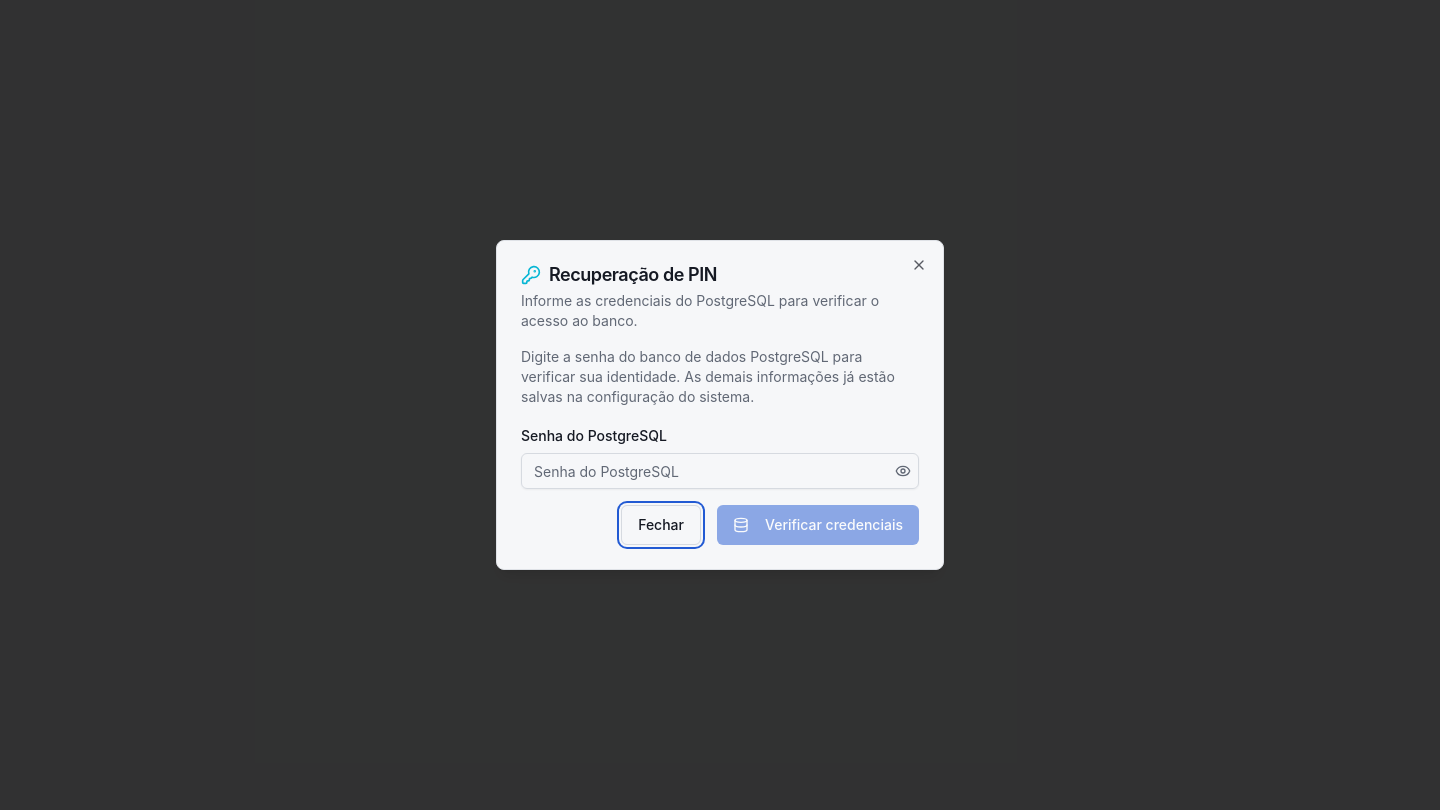
Scenario: PasswordRecoveryDialog › Step 1 — Senha PostgreSQL apenas › exibe erro quando credenciais sao invalidas
Type "wrongpass" into the password field labelled "Senha do PostgreSQL".
click(720, 471); type("wrongpass")  # box [521,453,919,489]
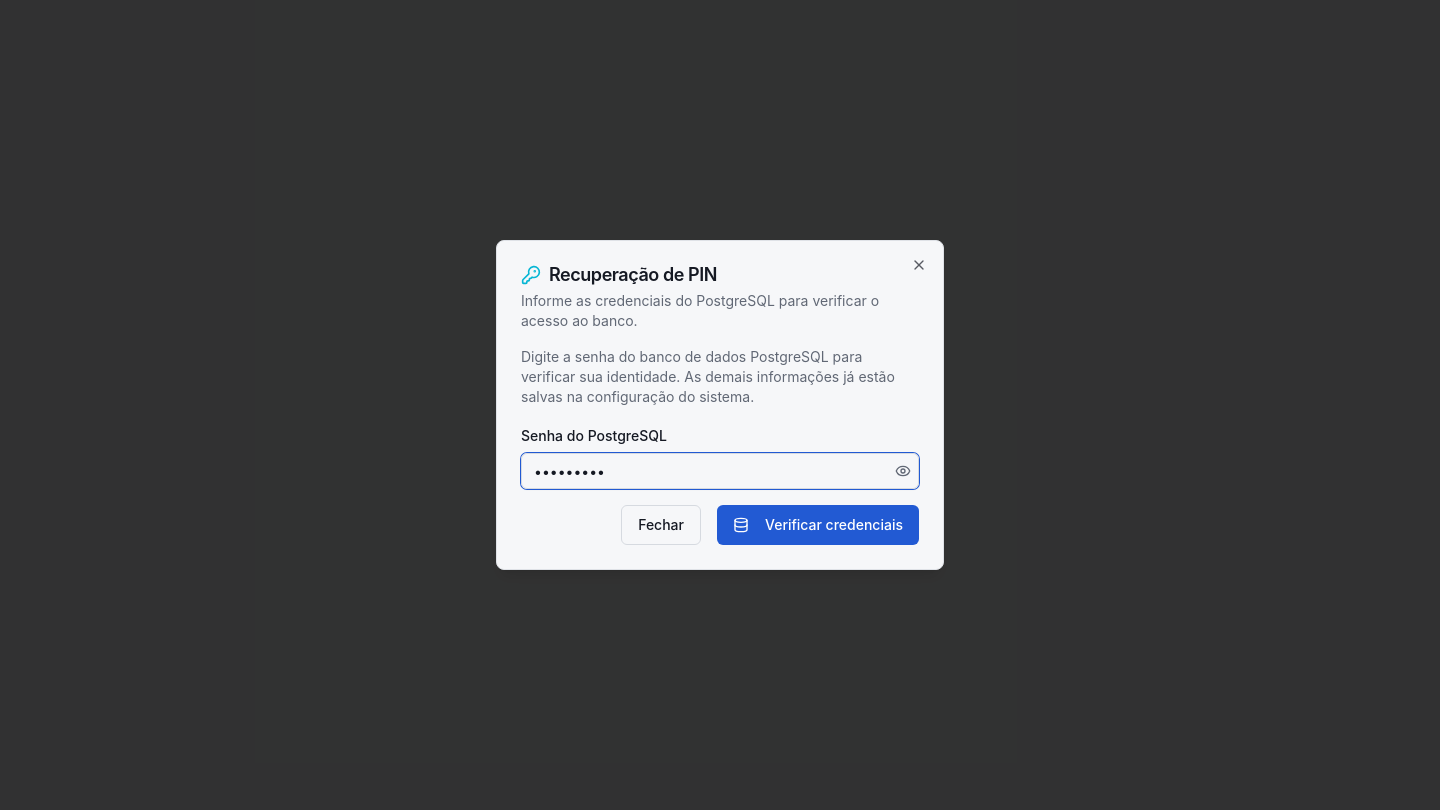
Click the button "Verificar credenciais".
click(818, 525)  # box [717,505,919,545]
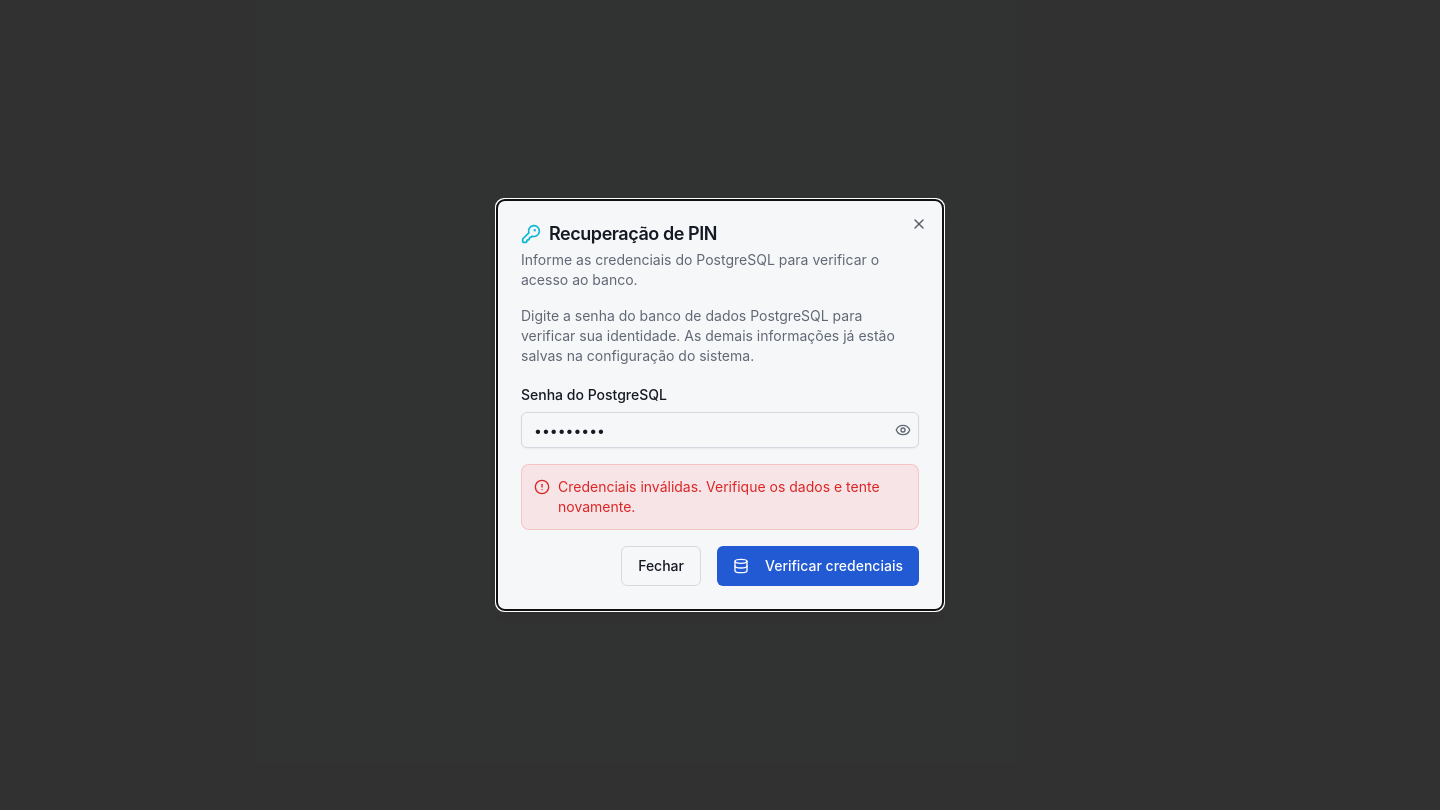
Now the text "Credenciais inválidas. Verifique os dados e tente novamente." is shown, box [558,477,906,517]
